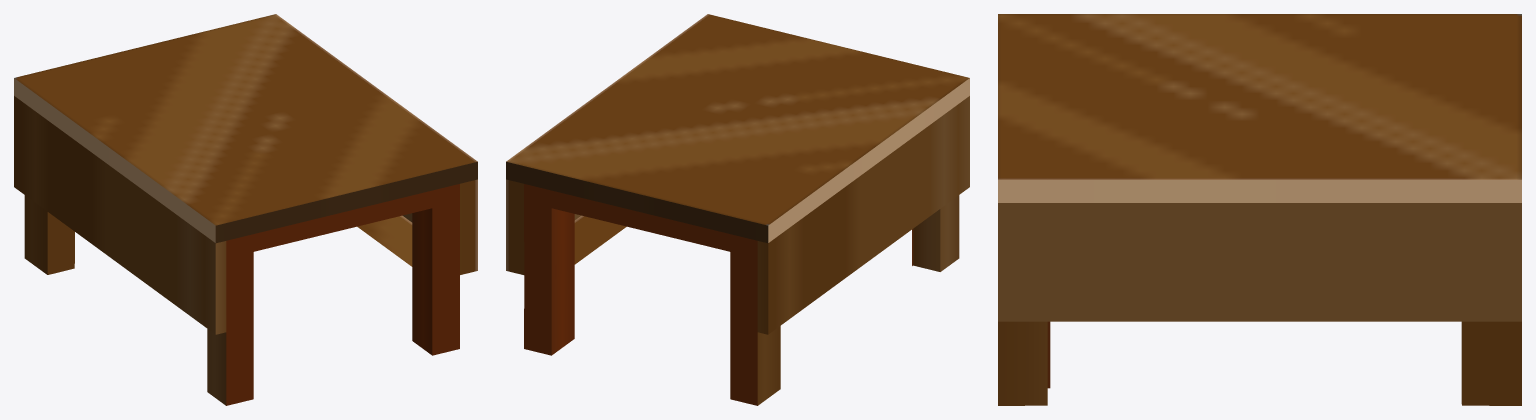
The model's file is table_1001x00.obj.
3 views of the same model, side by side, from view 1: azimuth 30°, elevation 25°; view 2: azimuth 150°, elevation 25°; view 3: azimuth 270°, elevation 25° (orthographic). The views are drawn at different scales.
Parts seen in each view (by area): view 1: Table_1001x0; view 2: Table_1001x0; view 3: Table_1001x0.
Boxes of the visible parts, <box> form: Table_1001x0: <box>14,14,477,405</box>; Table_1001x0: <box>506,14,969,405</box>; Table_1001x0: <box>998,14,1521,405</box>.
Size of the model in its own units: 3 by 2 by 4.
